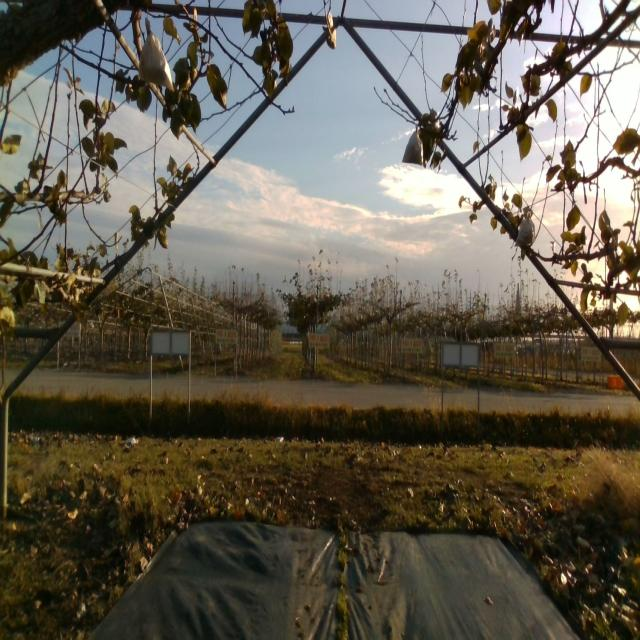pearbags: (138, 16, 176, 93), (402, 124, 423, 168), (514, 212, 536, 248)
